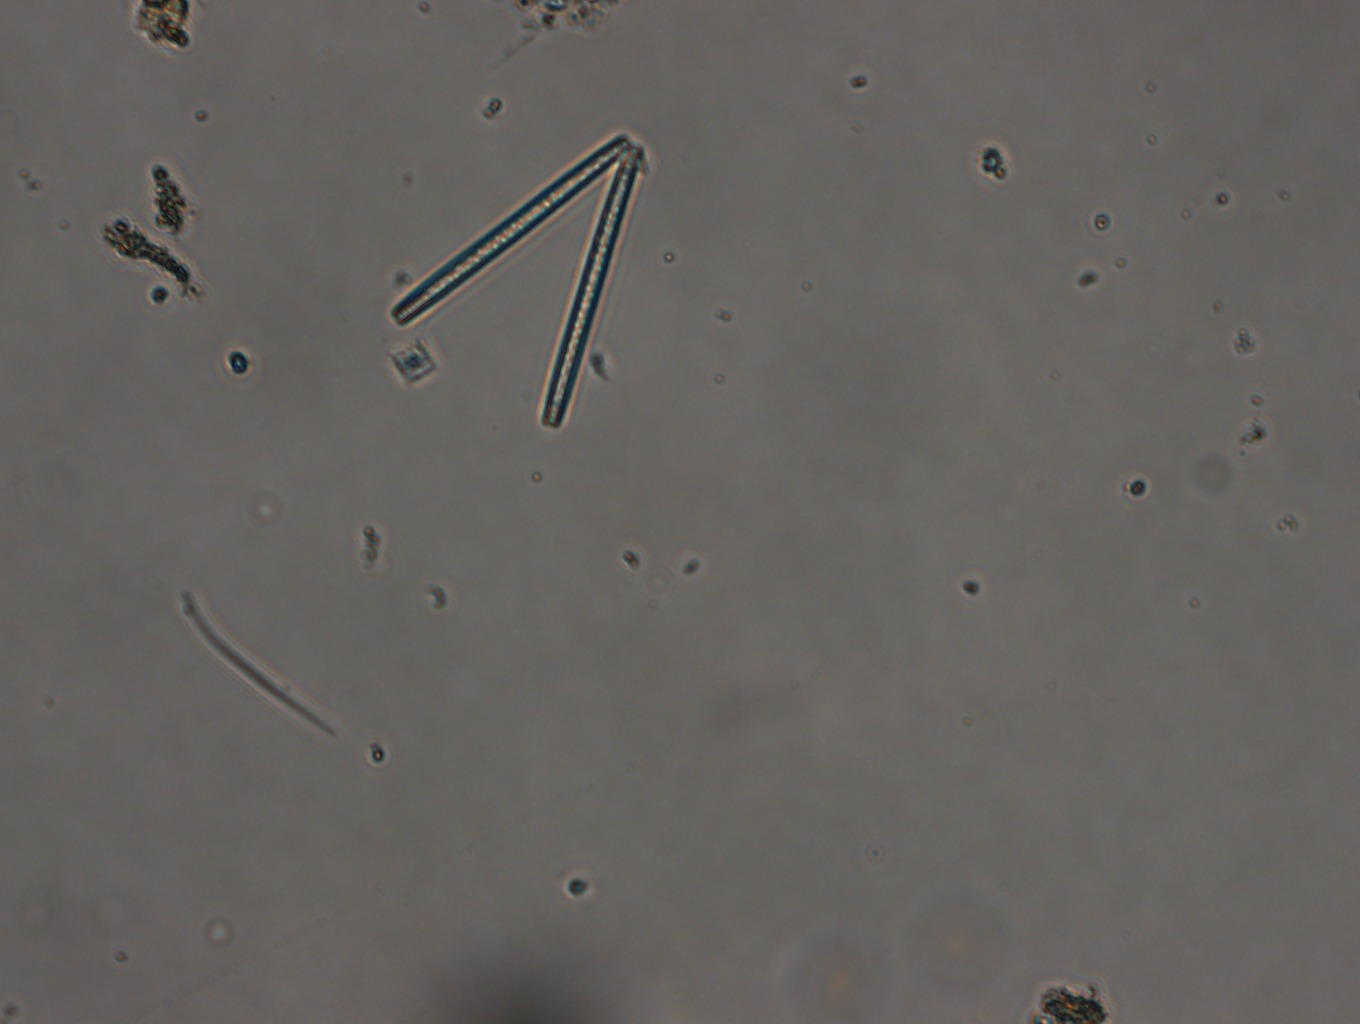thalassionema frauenfeldii: (382, 123, 652, 432)
